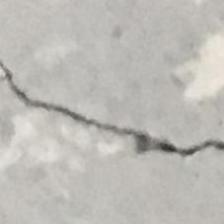Crack: (0, 67, 224, 207)
